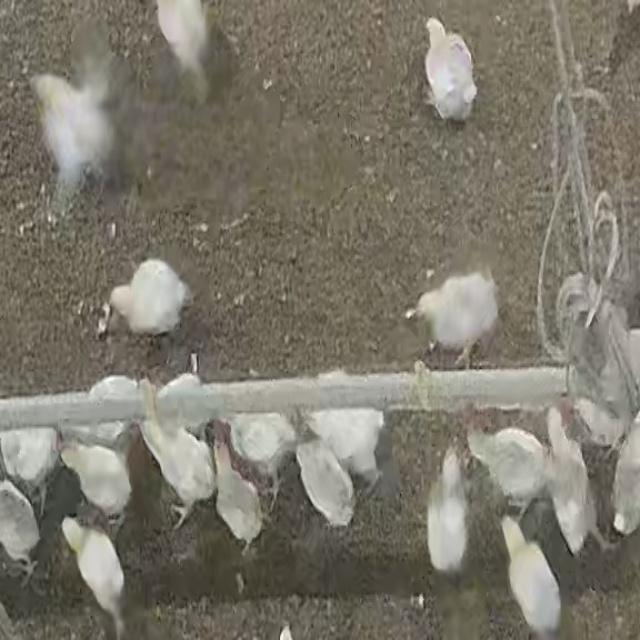chicken: (29, 71, 115, 182), (61, 513, 130, 639), (143, 412, 218, 526), (544, 404, 600, 556), (498, 511, 560, 638), (466, 422, 546, 520), (210, 422, 264, 553), (58, 435, 136, 524), (420, 275, 499, 361), (150, 0, 216, 100), (108, 258, 189, 339), (308, 409, 382, 488), (289, 440, 353, 529), (424, 10, 472, 128), (424, 452, 467, 576), (0, 474, 43, 583), (1, 426, 59, 500), (228, 412, 294, 472), (609, 414, 640, 538), (82, 375, 140, 441), (160, 370, 208, 432)
